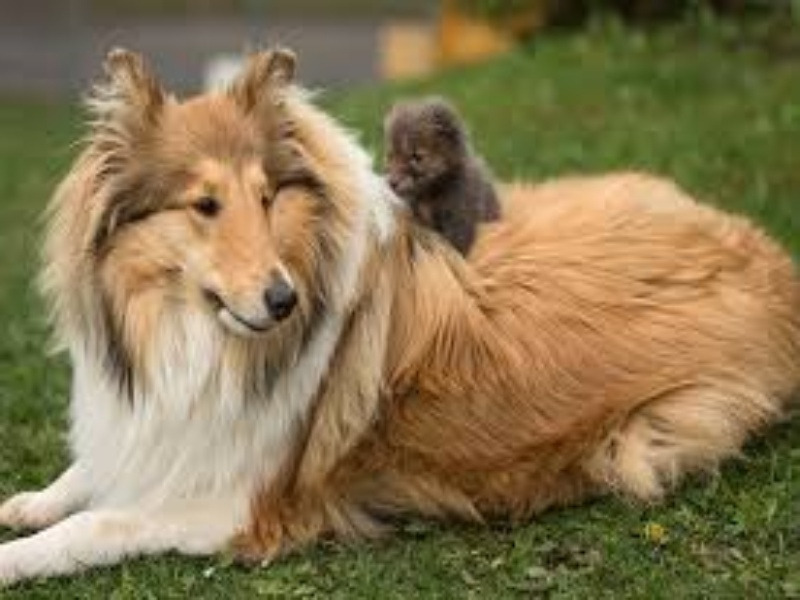dog: (19, 45, 793, 556)
